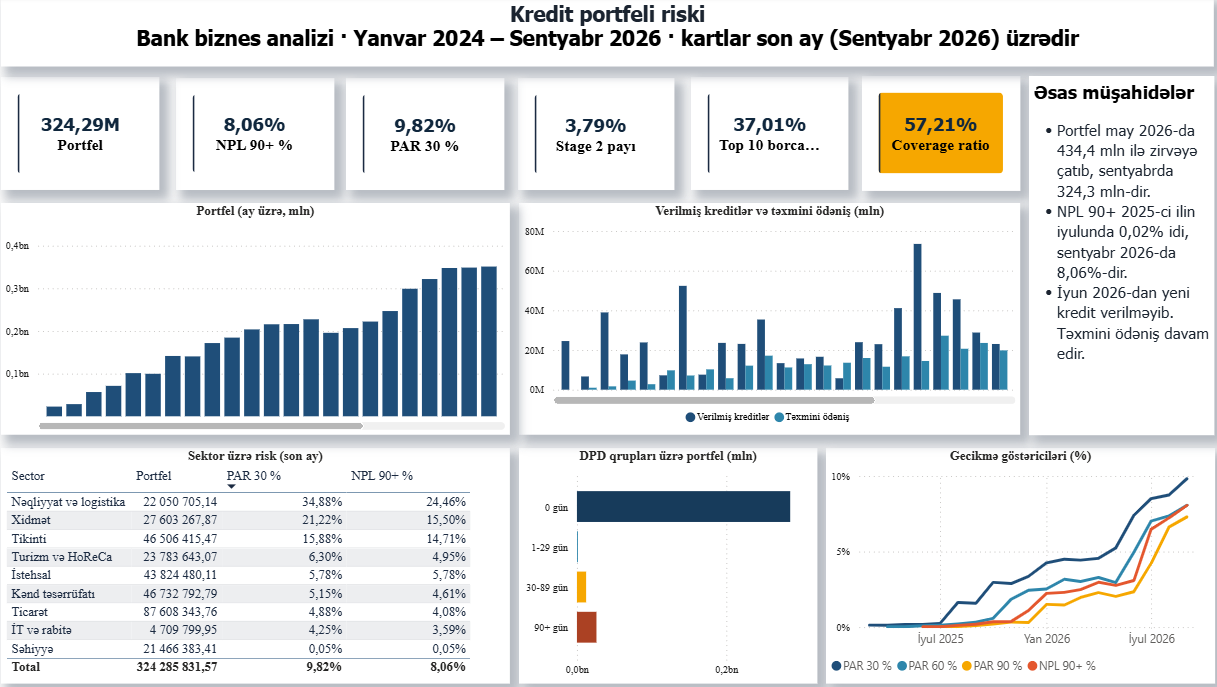

This screenshot's page, from the dashboard's own definition file:
{"tool":"powerbi","page":{"name":"Kredit Riski 2","canvas":[1280,720],"ordinal":2},"visuals":[{"type":"cardVisual","fields":{"Data":["Table.Stage 2 payı"]},"box":[548.2,83.6,161.8,116.4],"z":0},{"type":"cardVisual","fields":{"Data":["Table.Top 10 borcalan payı"]},"box":[727.1,83.3,163.2,117],"z":1000},{"type":"cardVisual","fields":{"Data":["Table.NPL 90+ %"]},"box":[193.3,84.2,163.8,115.9],"z":2000},{"type":"cardVisual","fields":{"Data":["Table.PAR 30 %"]},"box":[369.8,84.2,164,116.2],"z":3000},{"type":"cardVisual","fields":{"Data":["Table.Portfel"]},"box":[12.7,83.3,164.1,117],"z":4000},{"type":"cardVisual","fields":{"Data":["Table.Coverage ratio"]},"box":[904.3,81.5,163.8,118.6],"z":5000},{"type":"tableEx","title":"Sektor üzrə risk (son ay)","fields":{"Values":["DimCustomer.Sector","Table.Portfel","Table.PAR 30 %","Table.NPL 90+ %"]},"box":[12.7,467.1,526.8,243.5],"z":6000},{"type":"clusteredBarChart","title":"DPD qrupları üzrə portfel (mln)","fields":{"Category":["FactLoanMonthly.DPD Bucket"],"Y":["Table.Portfel"]},"box":[549.1,467.3,309.1,243.6],"z":7000},{"type":"lineChart","title":"Gecikmə göstəriciləri (%)","fields":{"Category":["DimDate.Month.Variation.Date Hierarchy.Year","DimDate.Month.Variation.Date Hierarchy.Quarter","DimDate.Month.Variation.Date Hierarchy.Month","DimDate.Month.Variation.Date Hierarchy.Day"],"Y":["Table.PAR 30 %","Table.PAR 60 %","Table.PAR 90 %","Table.NPL 90+ %"]},"box":[866.3,467.1,402.8,243.5],"z":8000},{"type":"clusteredColumnChart","title":"Verilmiş kreditlər və təxmini ödəniş (mln)","fields":{"Category":["DimDate.Ay (qısa)"],"Y":["Table.Verilmiş kreditlər","Table.Təxmini ödəniş"]},"box":[549.1,213.6,519.1,240],"z":9000},{"type":"clusteredColumnChart","title":"Portfel (ay üzrə, mln)","fields":{"Category":["DimDate.Ay (qısa)"],"Y":["Table.Portfel"]},"box":[12.7,213.6,526.8,239.9],"z":10000},{"type":"textbox","box":[12.7,0,1256.5,71.5],"z":11000},{"type":"textbox","box":[1077.2,81.5,191.9,372.1],"z":12000}]}

Visuals, with their boxes in screenshot pixels (x1, y1, x2, y2), scaled from the page's 1280x720 canvas onto the 1217x687 screenshot:
cardVisual - Table.Stage 2 payı: 521, 80, 675, 191
cardVisual - Table.Top 10 borcalan payı: 691, 79, 846, 191
cardVisual - Table.NPL 90+ %: 184, 80, 340, 191
cardVisual - Table.PAR 30 %: 352, 80, 508, 191
cardVisual - Table.Portfel: 12, 79, 168, 191
cardVisual - Table.Coverage ratio: 860, 78, 1016, 191
"Sektor üzrə risk (son ay)" tableEx: 12, 446, 513, 678
"DPD qrupları üzrə portfel (mln)" clusteredBarChart: 522, 446, 816, 678
"Gecikmə göstəriciləri (%)" lineChart: 824, 446, 1207, 678
"Verilmiş kreditlər və təxmini ödəniş (mln)" clusteredColumnChart: 522, 204, 1016, 433
"Portfel (ay üzrə, mln)" clusteredColumnChart: 12, 204, 513, 433
textbox: 12, 0, 1207, 68
textbox: 1024, 78, 1207, 433
